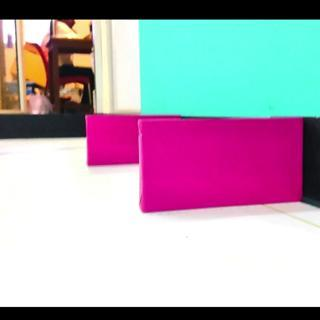xparking: (142, 121, 302, 212), (88, 117, 138, 166)
